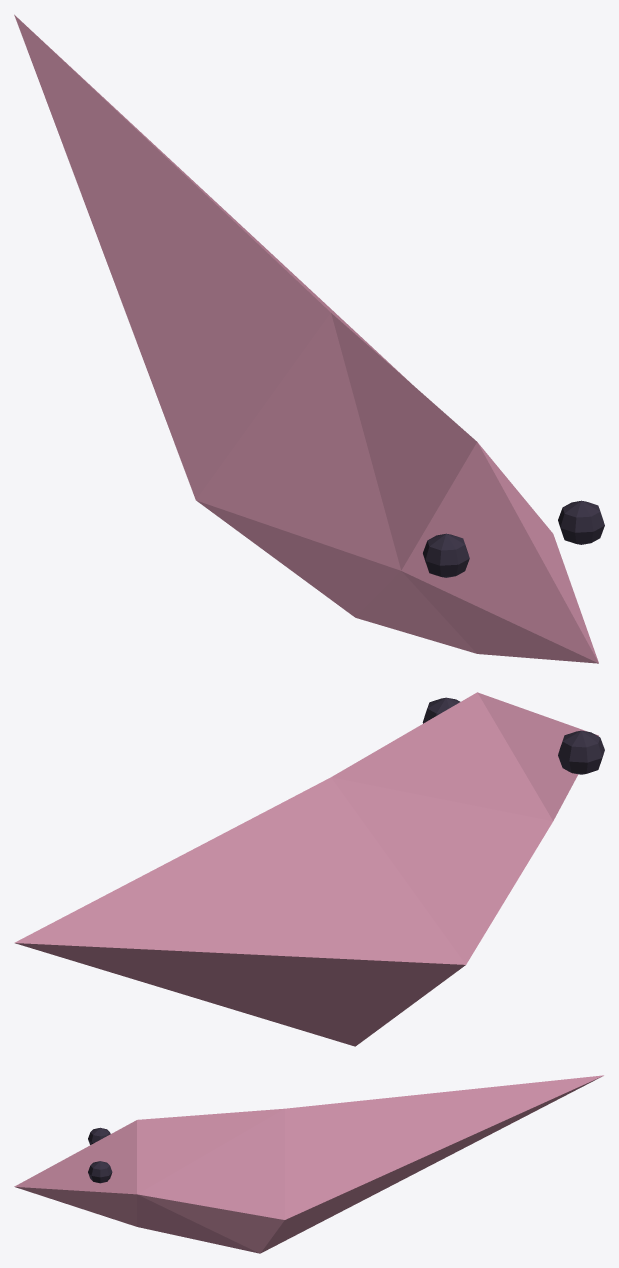
Rendered from SH_Bird_Body_Pink.fbx.
The picture shows the model from 3 angles, top to bottom: view 1: azimuth 30°, elevation 25°; view 2: azimuth 150°, elevation 25°; view 3: azimuth 270°, elevation 25°; orthographic projection. The views are drawn at different scales.
Parts seen in each view (by area): view 1: SH_Bird_Body_Pink; view 2: SH_Bird_Body_Pink; view 3: SH_Bird_Body_Pink.
Part boxes in pixels (bbox=[...]): SH_Bird_Body_Pink: bbox=[14, 14, 604, 663]; SH_Bird_Body_Pink: bbox=[14, 692, 604, 1046]; SH_Bird_Body_Pink: bbox=[14, 1075, 603, 1253].
Size of the model in its own units: 0.064 by 0.08 by 0.24.
